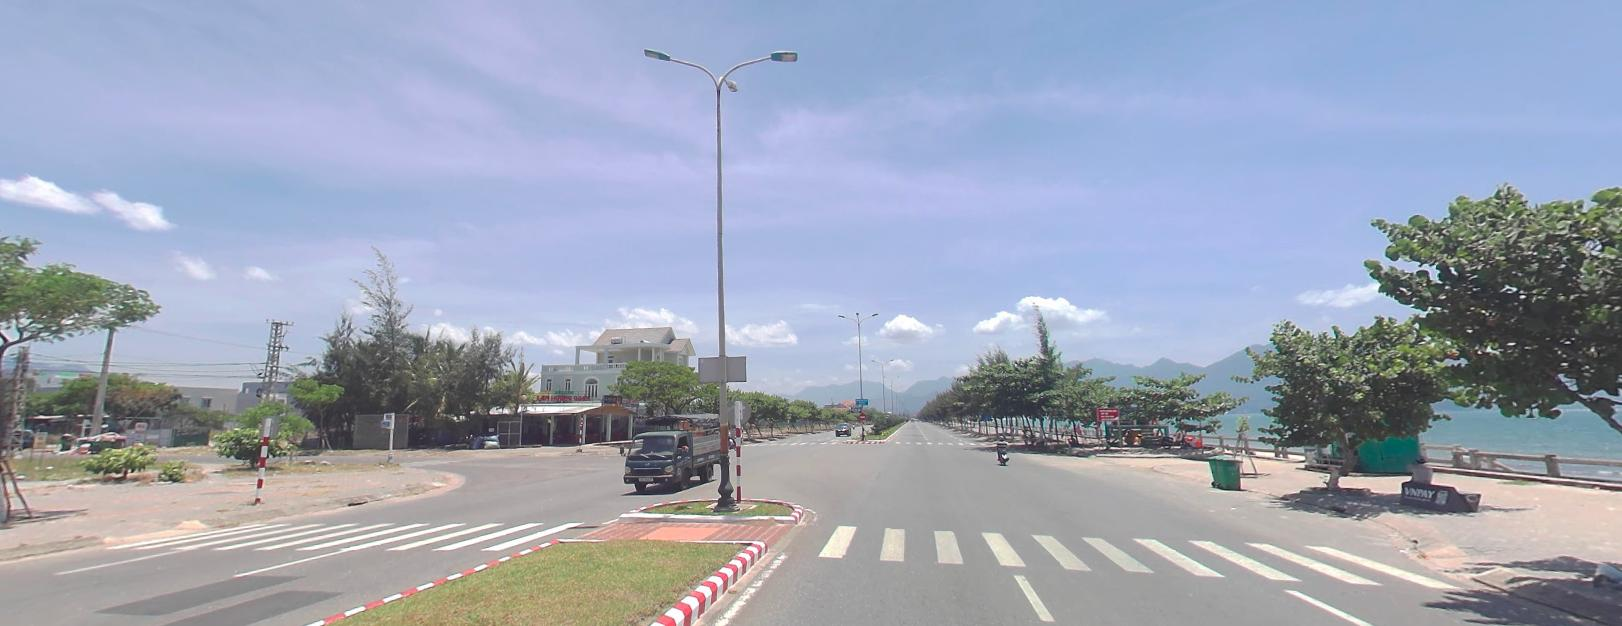Cam con lai: (580, 415, 583, 422)
Cam nguoc chieu: (858, 411, 865, 418), (859, 411, 865, 418)
